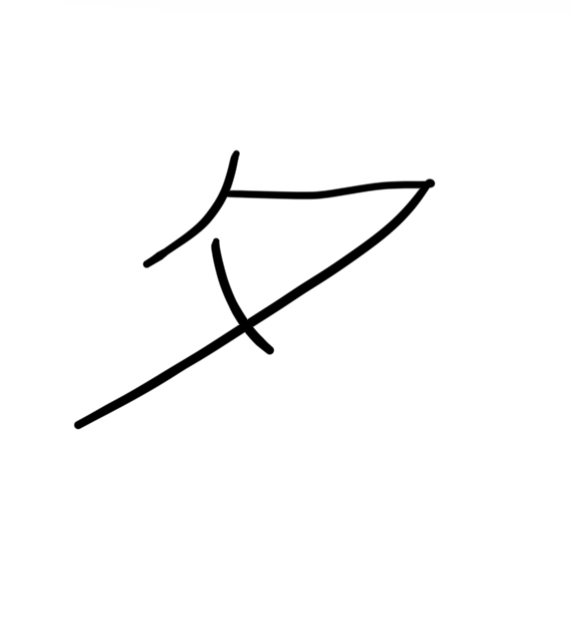ta: (53, 144, 446, 436)
